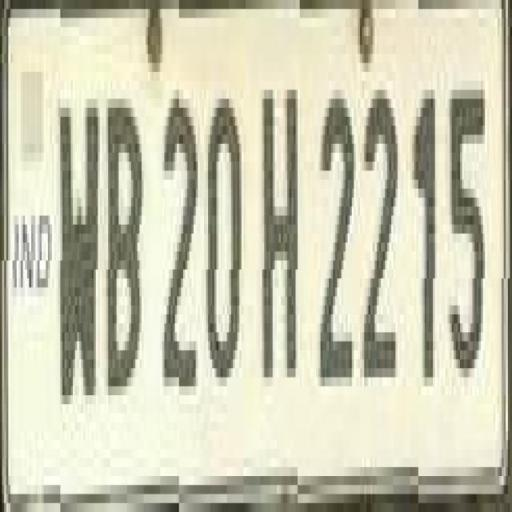number plate: (0, 0, 487, 512)
